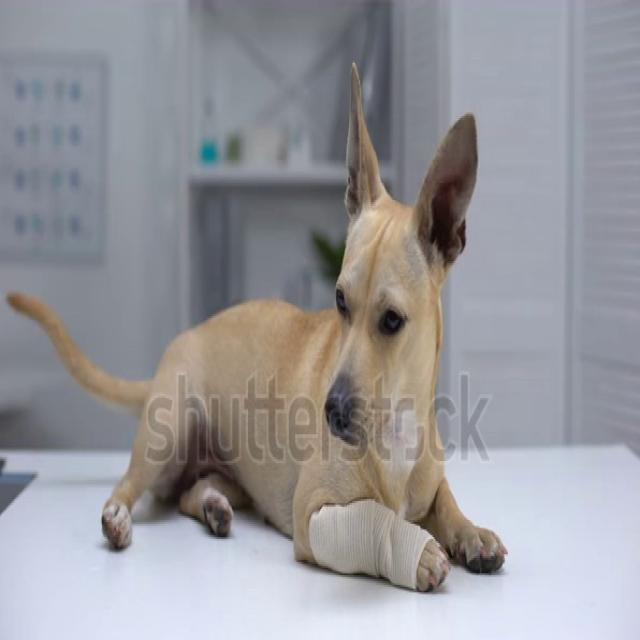injured-animals: (5, 57, 510, 598)
